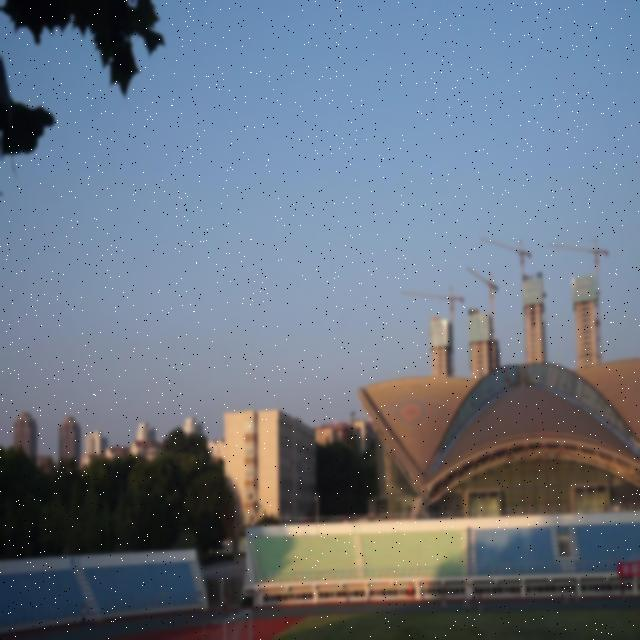UAV: (350, 409, 356, 416)
